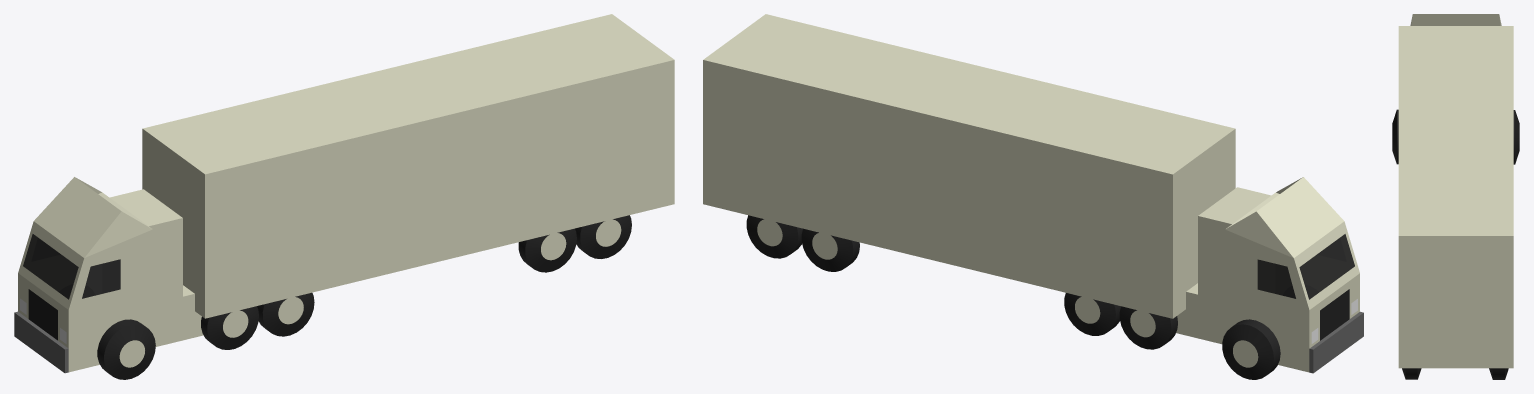
File: Truck.dae
3 views of the same model, side by side, from view 1: azimuth 30°, elevation 25°; view 2: azimuth 150°, elevation 25°; view 3: azimuth 270°, elevation 25° (orthographic). The views are drawn at different scales.
Visible parts, largest first — view 1: SketchUp (×5), TireSemi (×10); view 2: SketchUp (×5), TireSemi (×10); view 3: SketchUp, TireSemi (×4).
Boxes of the visible parts, <box> form: SketchUp (×5): <box>14,14,674,373</box>; TireSemi (×10): <box>97,215,631,379</box>; SketchUp (×5): <box>703,14,1363,373</box>; TireSemi (×10): <box>746,215,1280,379</box>; SketchUp: <box>1398,14,1513,368</box>; TireSemi (×4): <box>1392,109,1519,379</box>.
Bounding box in the file's own units: 631 × 126 × 185.
